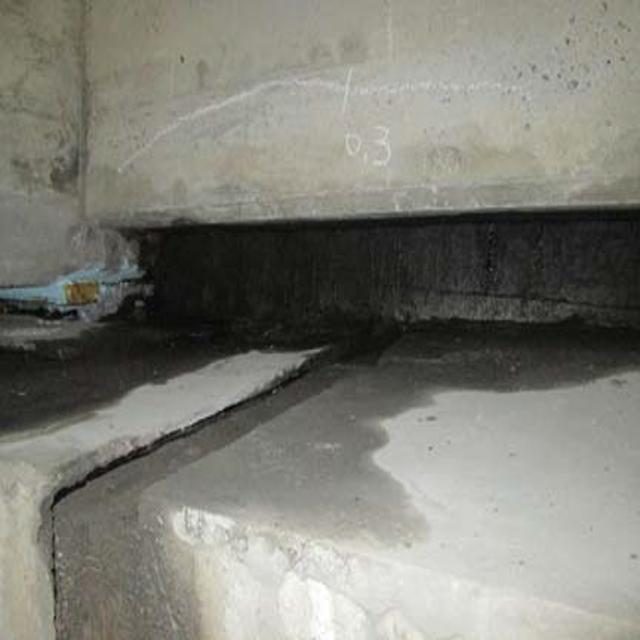leakage: (114, 181, 639, 393)
